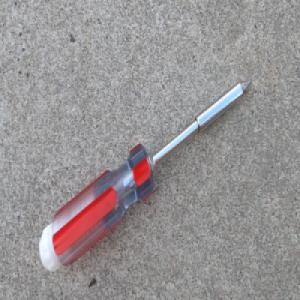Screwdriver: (37, 74, 254, 273)
